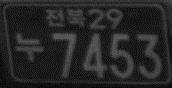2: (86, 7, 106, 31)
3: (136, 32, 163, 80)
4: (81, 31, 108, 79)
5: (109, 32, 135, 78)
7: (51, 31, 77, 79)
9: (105, 7, 123, 30)
누: (15, 31, 44, 63)
전북_O: (45, 7, 85, 29)
